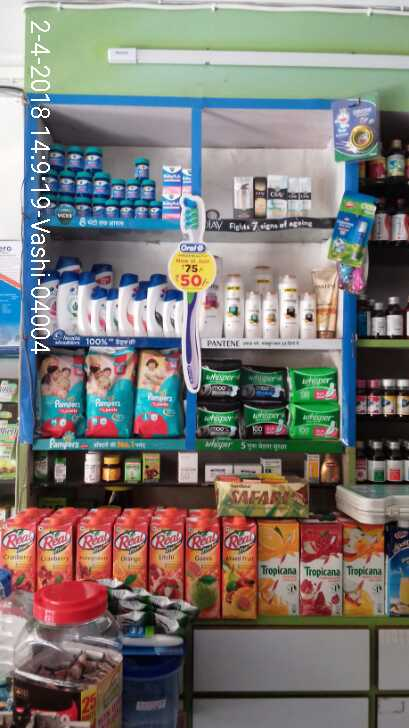vicks: (82, 144, 102, 170), (163, 165, 181, 190), (47, 143, 64, 169), (163, 193, 180, 219), (65, 144, 82, 168), (57, 171, 74, 194), (92, 174, 109, 196), (75, 197, 91, 218), (43, 171, 57, 195), (112, 177, 126, 197), (77, 174, 91, 194), (106, 200, 121, 218), (91, 200, 106, 218), (134, 157, 146, 177), (43, 195, 57, 212), (129, 180, 141, 199), (147, 201, 161, 217), (182, 168, 192, 190), (141, 180, 153, 198), (121, 200, 132, 218), (60, 197, 75, 210), (135, 200, 145, 218)
